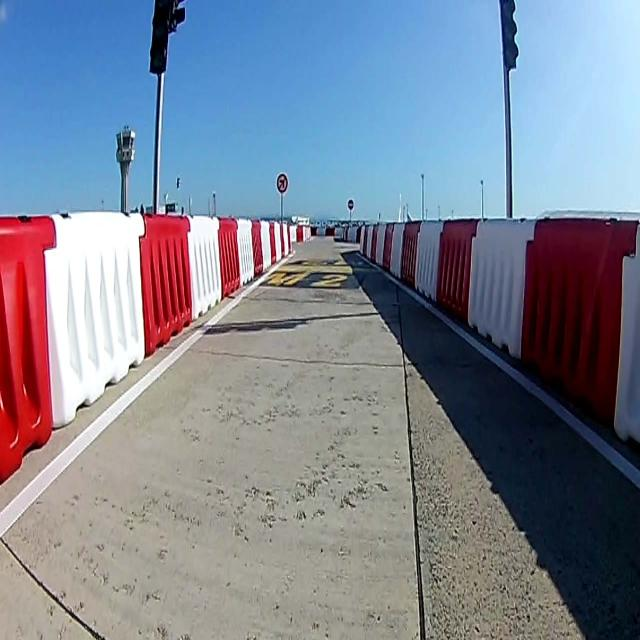soladonulmez: (278, 174, 288, 193)
